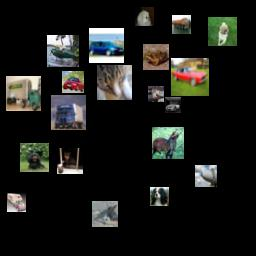airplane: (47, 35, 79, 67), (92, 201, 118, 227), (195, 165, 217, 187)
automobile: (171, 58, 209, 96), (89, 28, 124, 63), (62, 71, 84, 93), (165, 97, 181, 113)
cat: (97, 65, 132, 100), (57, 148, 83, 174), (148, 86, 164, 102)
deer: (152, 127, 184, 159)
dog: (208, 17, 237, 46), (20, 143, 49, 172), (135, 7, 154, 26), (150, 187, 169, 206)
frog: (143, 44, 169, 70)
truck: (6, 76, 41, 111), (51, 95, 86, 130), (172, 15, 191, 34), (7, 193, 26, 212)
